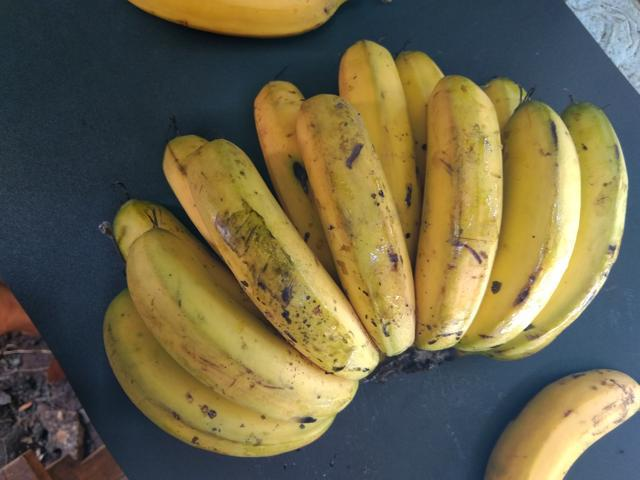ripe: (176, 140, 380, 379), (139, 213, 351, 423), (300, 85, 446, 382), (400, 53, 518, 348), (99, 319, 350, 450), (457, 96, 581, 353), (521, 103, 632, 365), (488, 373, 639, 479)
